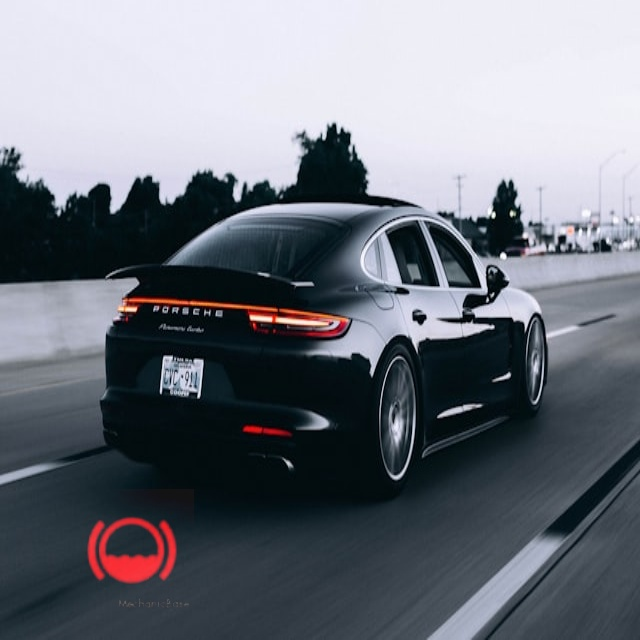symbol: (69, 489, 194, 614)
